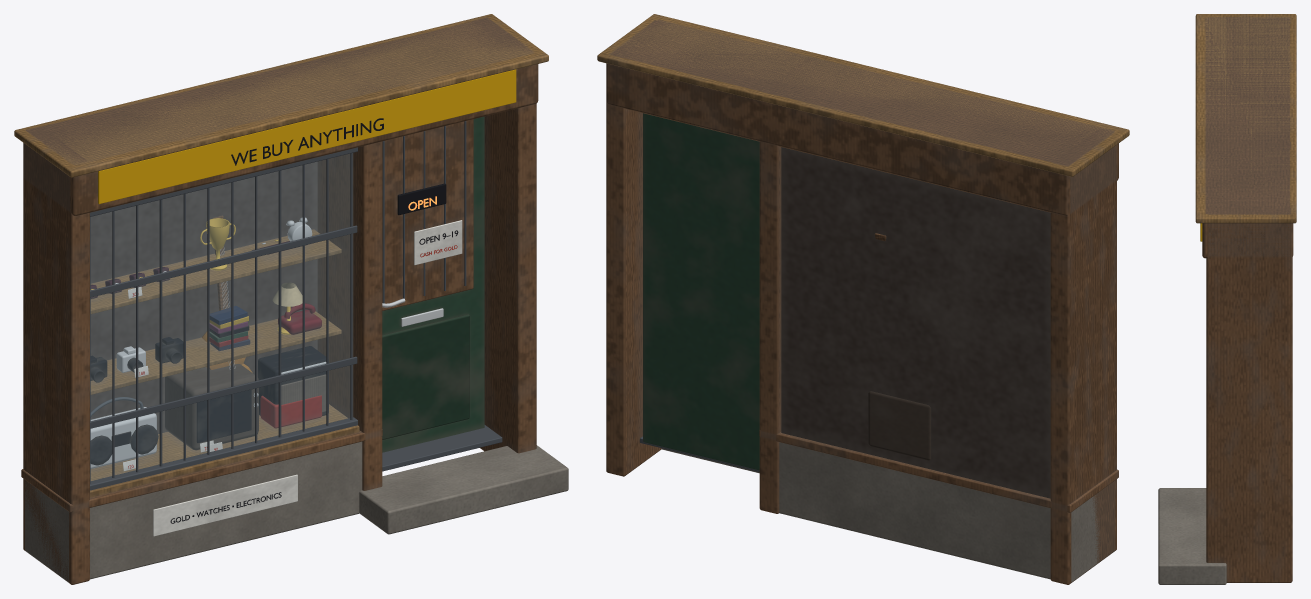
Rendered from lombard_witryna.glb.
The picture shows the model from 3 angles, left to right: view 1: azimuth 30°, elevation 25°; view 2: azimuth 150°, elevation 25°; view 3: azimuth 270°, elevation 25°; orthographic projection. The views are drawn at different scales.
Parts seen in each view (by area): view 1: Witryna, Szyby, Metale, Towar, Napisy, OpenRamka; view 2: Witryna, Towar; view 3: Witryna.
Part boxes in pixels (x1,y1,x2,y2): Witryna: [14, 14, 568, 584]; Szyby: [91, 154, 349, 480]; Metale: [90, 69, 516, 490]; Towar: [90, 215, 462, 536]; Napisy: [128, 118, 458, 523]; OpenRamka: [397, 183, 446, 215]; Witryna: [597, 14, 1129, 584]; Towar: [868, 233, 930, 460]; Witryna: [1158, 14, 1296, 584].
Bounding box in the file's own units: 2.98 × 2.5 × 0.85.
Materials: 11 (2 with a texture image).
